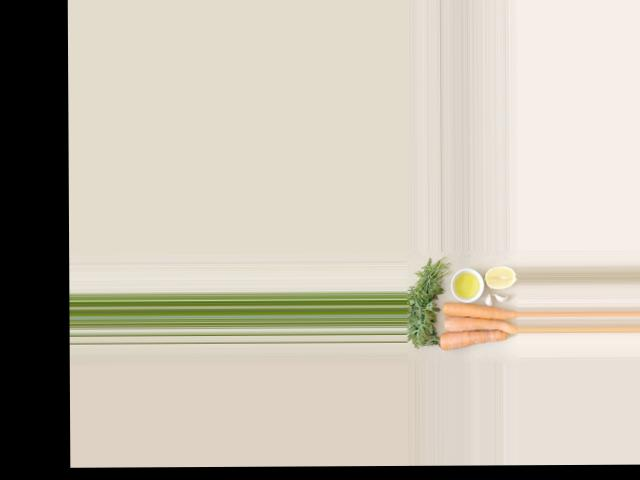carrot: (439, 301, 518, 321)
